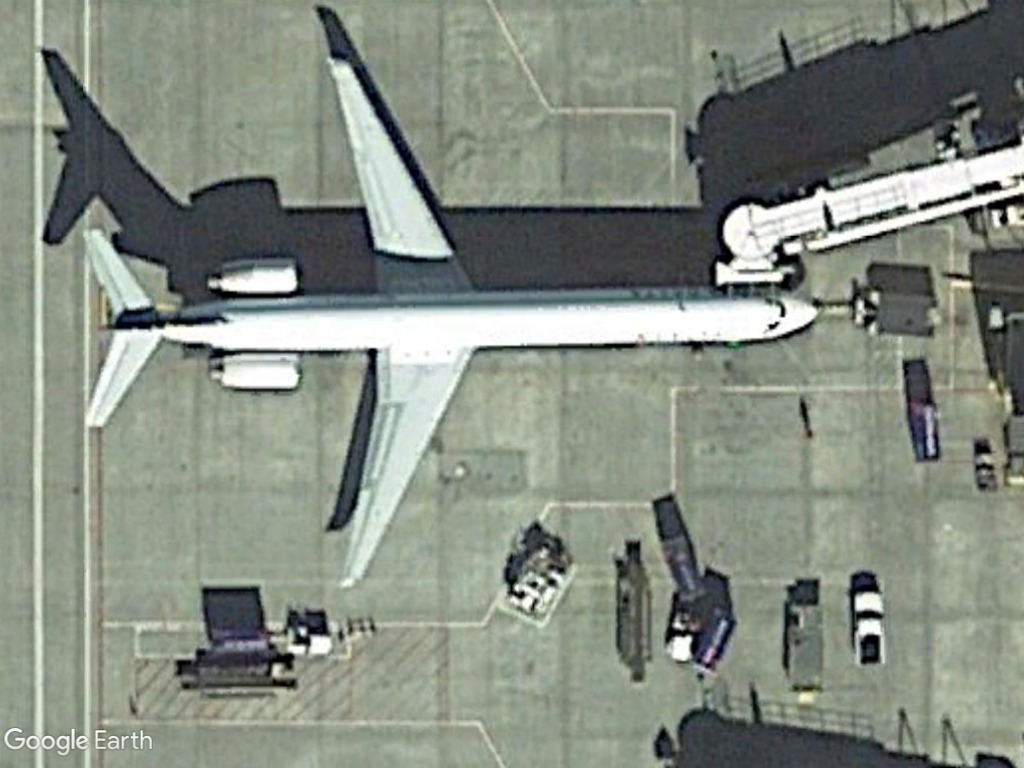chartered: (70, 42, 822, 595)
